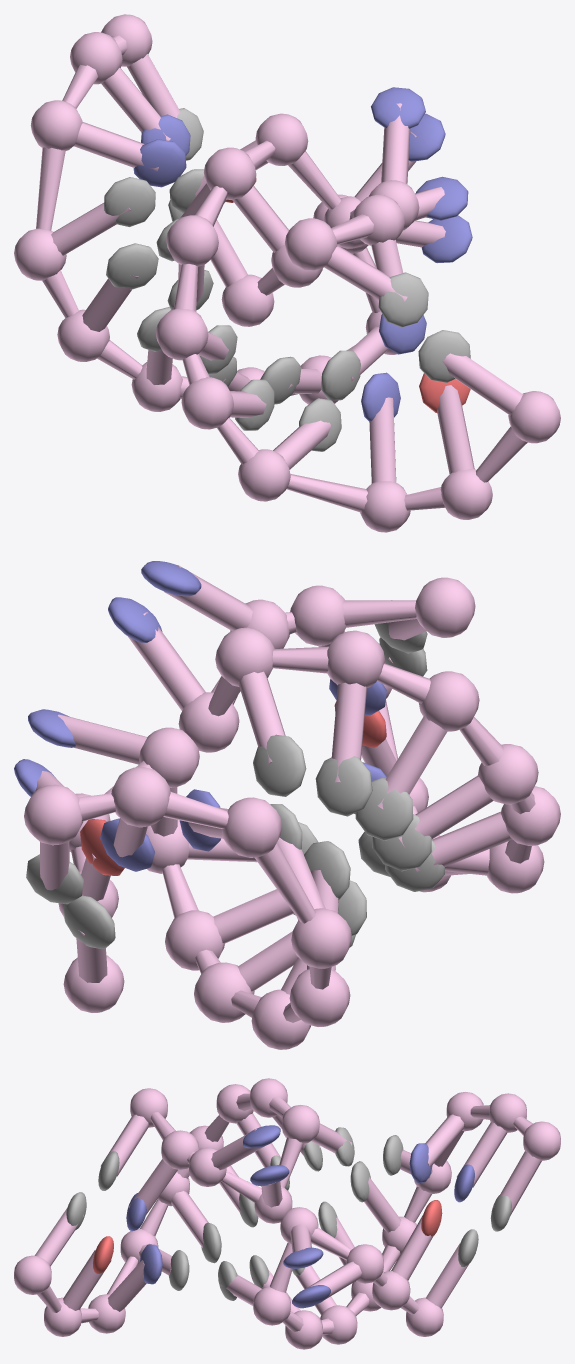
3 renders of one model, top to bottom at view 1: azimuth 30°, elevation 25°; view 2: azimuth 150°, elevation 25°; view 3: azimuth 270°, elevation 25°, orthographic. The views are drawn at different scales.
Visible parts, largest first — view 1: backbone_256, backbone_264, backbone_258, backbone_257, connector_253, backbone_255, backbone_252, connector_252, backbone_122, backbone_253, backbone_259, nucleoside_264 (+60 smaller); view 2: backbone_264, backbone_122, backbone_121, backbone_120, backbone_123, backbone_258, backbone_259, nucleoside_259, backbone_263, backbone_129, backbone_257, backbone_260 (+59 smaller); view 3: backbone_252, backbone_120, backbone_128, backbone_260, backbone_263, connector_121, backbone_131, connector_131, backbone_121, backbone_132, connector_120, backbone_126 (+68 smaller).
Boxes of the visible parts, x1,y1,x2,y2 form: backbone_256: [181, 377, 233, 429]; backbone_264: [285, 218, 337, 270]; backbone_258: [166, 215, 218, 266]; backbone_257: [156, 308, 208, 360]; connector_253: [437, 385, 474, 474]; backbone_255: [238, 449, 290, 501]; backbone_252: [508, 391, 560, 443]; connector_252: [442, 353, 523, 415]; backbone_122: [30, 100, 82, 150]; backbone_253: [440, 469, 492, 519]; backbone_259: [203, 147, 256, 199]; nucleoside_264: [378, 272, 428, 327]; backbone_264: [415, 577, 475, 637]; backbone_122: [221, 797, 282, 857]; backbone_121: [111, 767, 170, 827]; backbone_120: [24, 784, 82, 845]; backbone_123: [291, 908, 351, 968]; backbone_258: [419, 671, 479, 731]; backbone_259: [327, 630, 384, 687]; nucleoside_259: [315, 756, 372, 816]; backbone_263: [290, 585, 345, 645]; backbone_129: [139, 727, 199, 787]; backbone_257: [478, 744, 538, 804]; backbone_260: [215, 627, 274, 686]; backbone_252: [14, 1255, 51, 1294]; backbone_120: [523, 1121, 560, 1160]; backbone_128: [253, 1286, 290, 1325]; backbone_260: [282, 1105, 319, 1143]; backbone_263: [161, 1130, 198, 1169]; connector_121: [457, 1122, 507, 1187]; backbone_131: [372, 1271, 410, 1310]; connector_131: [391, 1215, 439, 1280]; backbone_121: [489, 1093, 526, 1132]; backbone_132: [406, 1297, 443, 1336]; connector_120: [493, 1151, 541, 1215]; backbone_126: [320, 1305, 357, 1344].
Size of what is drawn, in the model's own units: 3.3 by 2.8 by 5.5.
